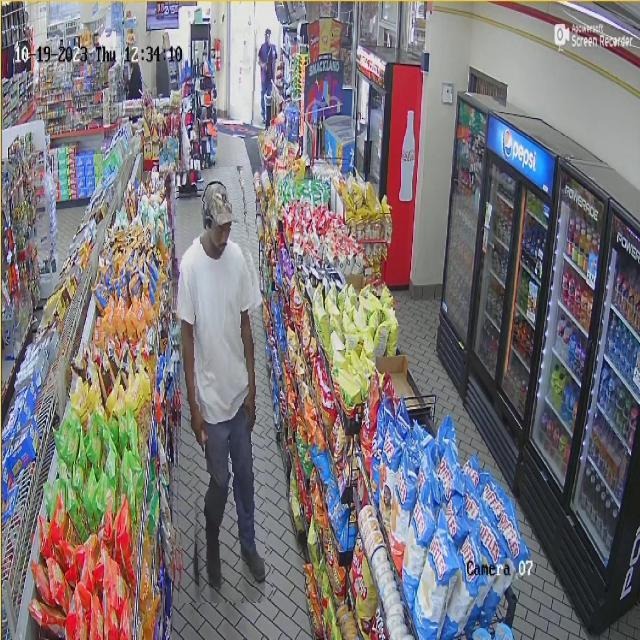Normal: (172, 167, 265, 603), (252, 20, 283, 133)
